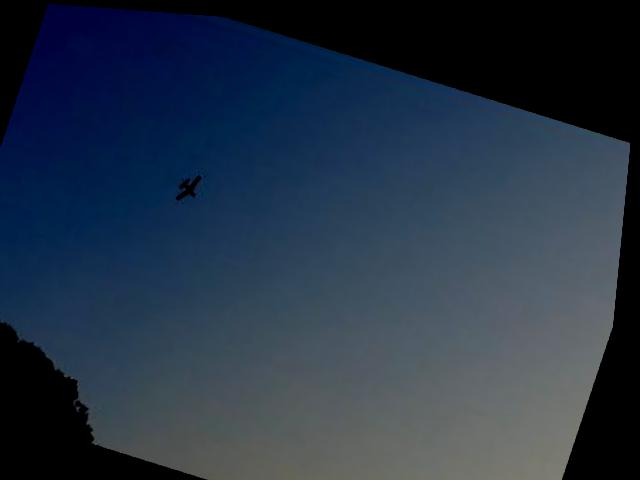uav: (176, 164, 207, 205)
